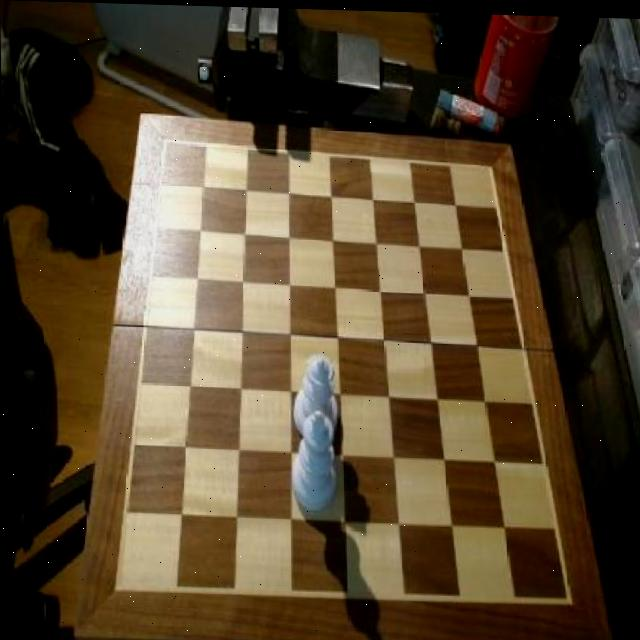white-bishop: (288, 408, 338, 514)
white-pawn: (290, 349, 337, 443)
